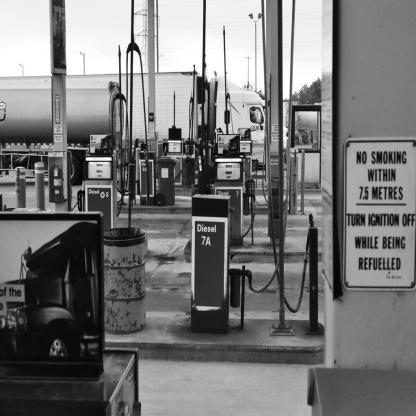truck: (0, 66, 288, 180)
